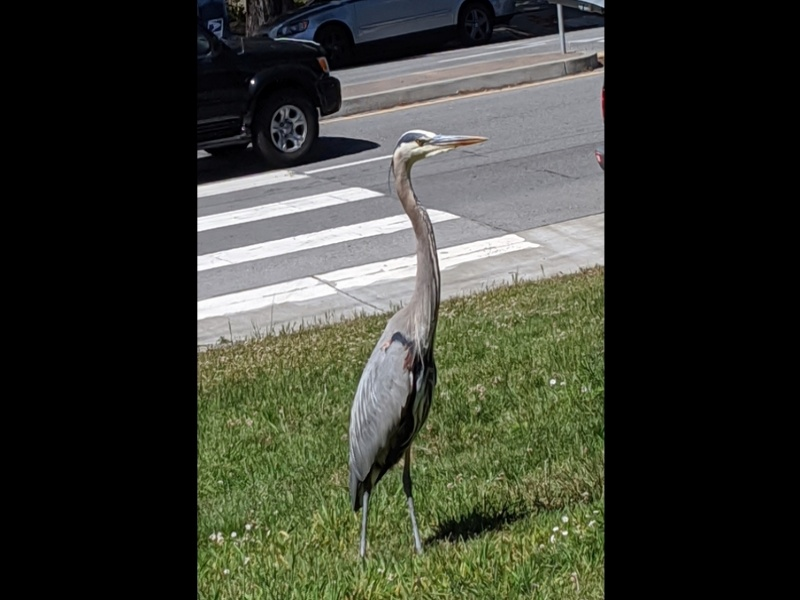heron: (346, 116, 489, 558)
